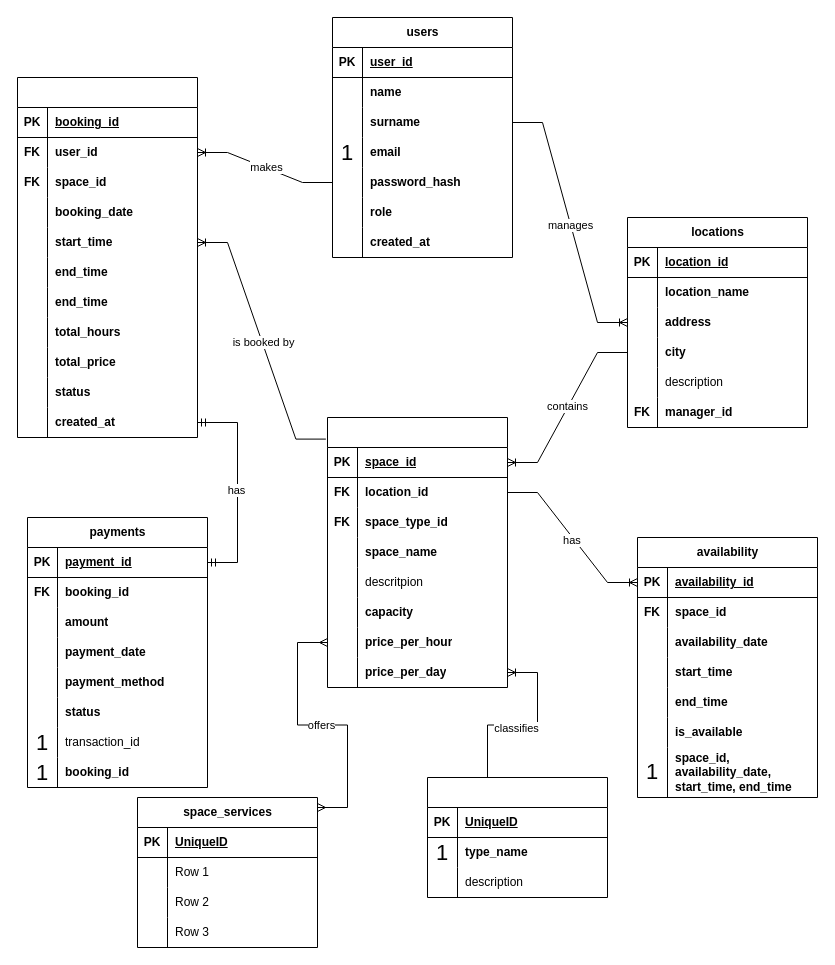
Image size: 835x965. Some labels were removed from this diagram. The shapes that lost their labels are listed below. From the top down, each one's box as (x1, y1, x2, y2) in pixels, then its label:
(16, 76, 198, 438): bookings
(326, 416, 508, 688): spaces
(426, 776, 608, 898): spaces_types
